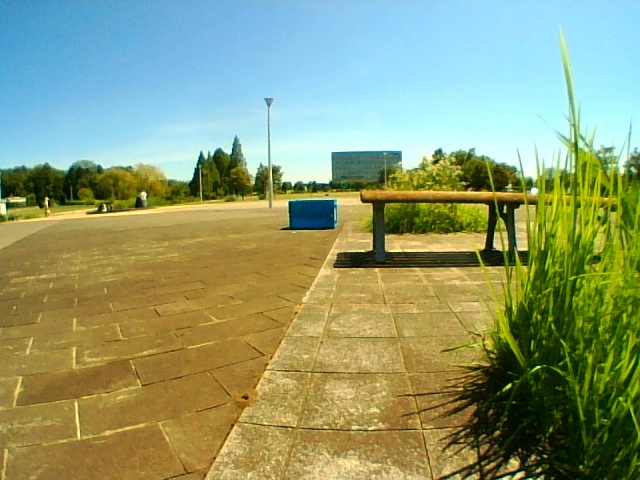blue_box: (290, 200, 338, 227)
tag: (334, 208, 338, 223)
